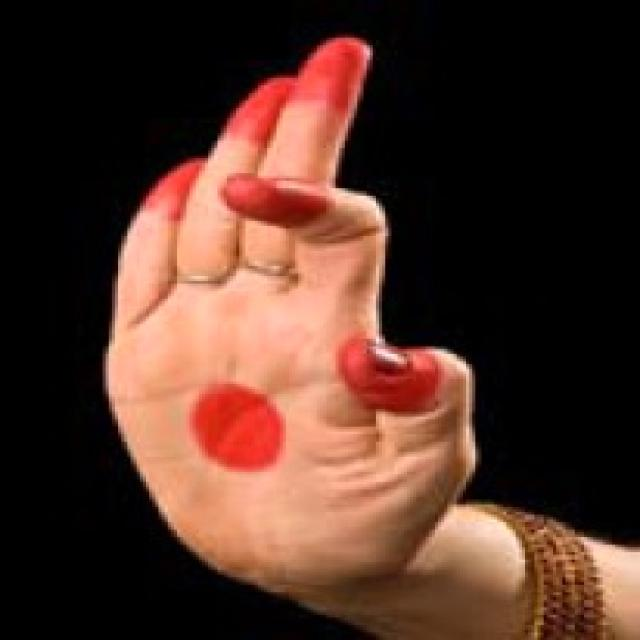Arala: (78, 16, 511, 604)
